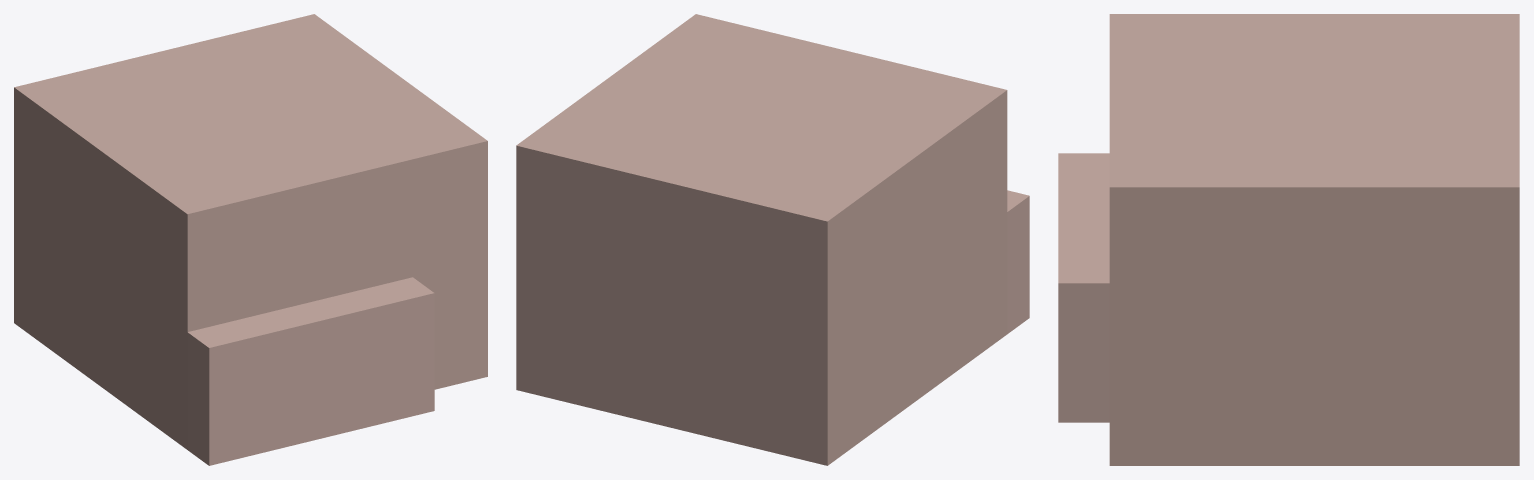
The model's file is roca_coralina_05.glb.
3 renders of one model, left to right at view 1: azimuth 30°, elevation 25°; view 2: azimuth 150°, elevation 25°; view 3: azimuth 270°, elevation 25°, orthographic. The views are drawn at different scales.
Visible parts, largest first — view 1: roca_coralina_05; view 2: roca_coralina_05; view 3: roca_coralina_05.
Boxes of the visible parts, <box> form: roca_coralina_05: <box>14,14,487,465</box>; roca_coralina_05: <box>516,14,1029,465</box>; roca_coralina_05: <box>1058,14,1519,465</box>.
Size of the model in its own units: 0.8 by 0.6 by 0.9.
